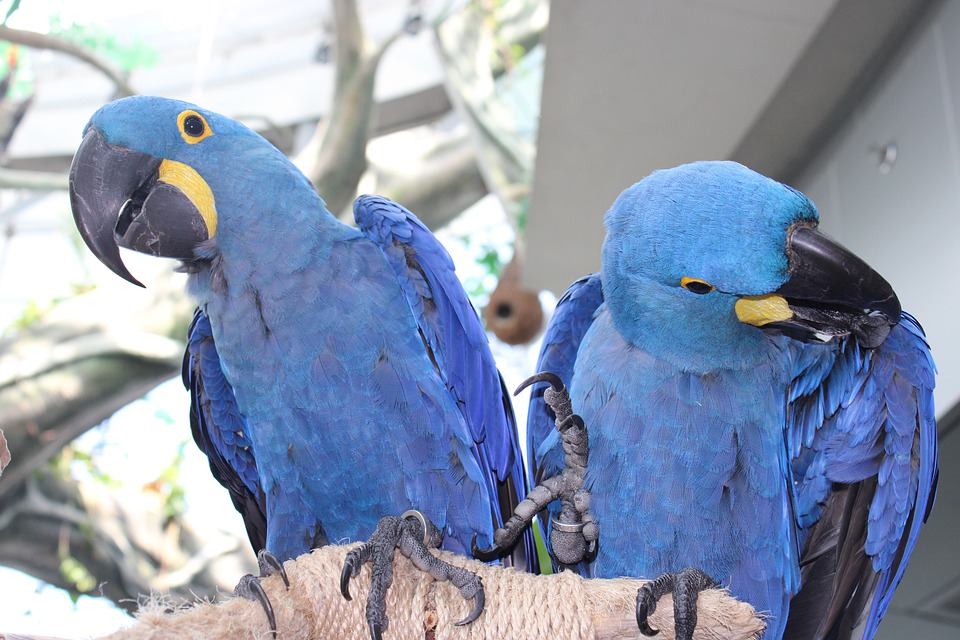guacamaya: (56, 93, 530, 640), (534, 116, 940, 640)
